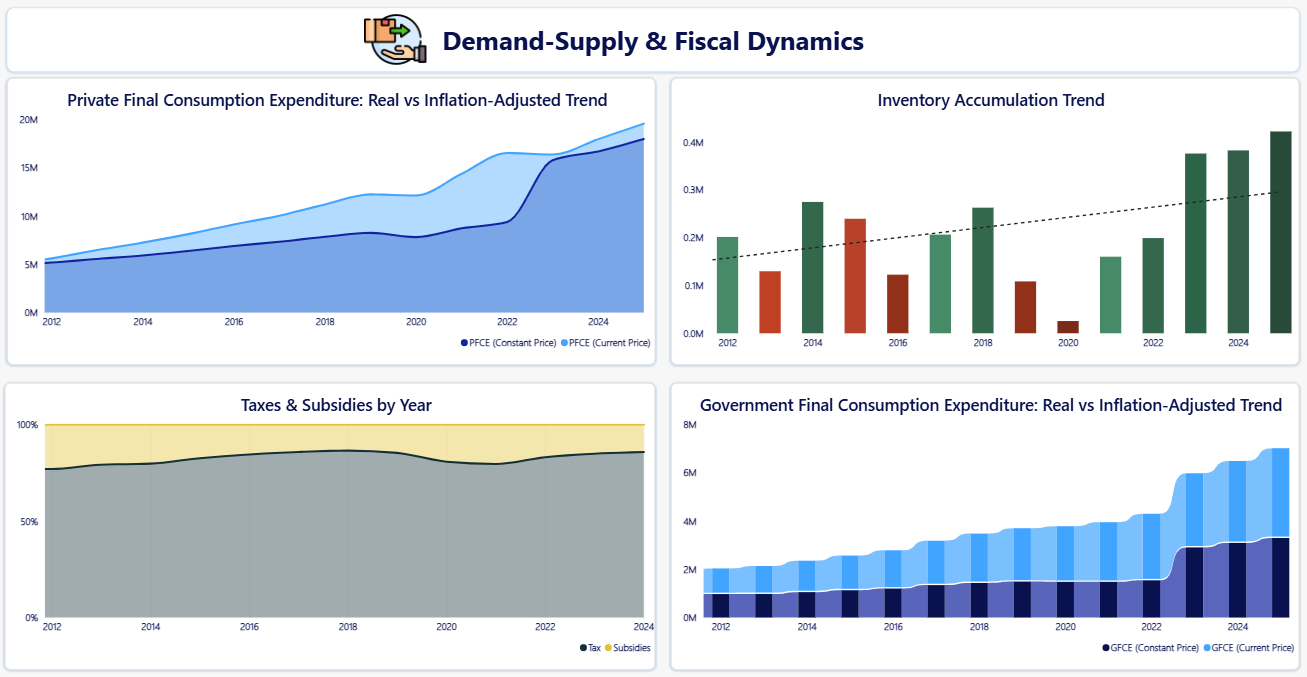

This screenshot's page, from the dashboard's own definition file:
{"tool":"powerbi","page":{"name":"Demand & Supply","canvas":[1920,1080],"ordinal":1},"visuals":[{"type":"textbox","box":[10.8,23.8,1869.8,90.9],"z":0},{"type":"image","box":[481.4,23.5,181,90.5],"z":1000},{"type":"lineChart","title":"Private Final Consumption Expenditure: Real vs Inflation-Adjusted Trend","fields":{"Category":["annual data.Year_1"],"Y":["annual data.PFCE (Constant Price)","annual data.PFCE (Current Price)"]},"box":[10.9,124.9,937.4,414.4],"z":2000},{"type":"ribbonChart","title":"Government Final Consumption Expenditure: Real vs Inflation-Adjusted Trend","fields":{"Category":["annual data.Year_1"],"Y":["annual data.GFCE (Constant Price)","annual data.GFCE (Current Price)"]},"box":[971.8,566.4,908.4,414.4],"z":3000},{"type":"clusteredColumnChart","title":"Inventory Accumulation Trend","fields":{"Category":["annual data.Year_1"],"Y":["annual data.Inventory Accumulation"]},"box":[971.8,124.9,908.4,414.4],"z":4000},{"type":"hundredPercentStackedAreaChart","title":"Taxes & Subsidies by Year","fields":{"Category":["annual data.Year_1"],"Y":["annual data.Tax","annual data.Subsidies"]},"box":[7.2,566.4,941,414.4],"z":5000}]}

Visuals, with their boxes on the page's 1920x1080 design canvas (x1, y1, x2, y2). These are canvas units, not pixel positions in the 1307x677 screenshot, which may show the page scaled, cropped or inside an application window:
textbox: locate(11, 24, 1881, 115)
image: locate(481, 24, 662, 114)
"Private Final Consumption Expenditure: Real vs Inflation-Adjusted Trend" lineChart: locate(11, 125, 948, 539)
"Government Final Consumption Expenditure: Real vs Inflation-Adjusted Trend" ribbonChart: locate(972, 566, 1880, 981)
"Inventory Accumulation Trend" clusteredColumnChart: locate(972, 125, 1880, 539)
"Taxes & Subsidies by Year" hundredPercentStackedAreaChart: locate(7, 566, 948, 981)
